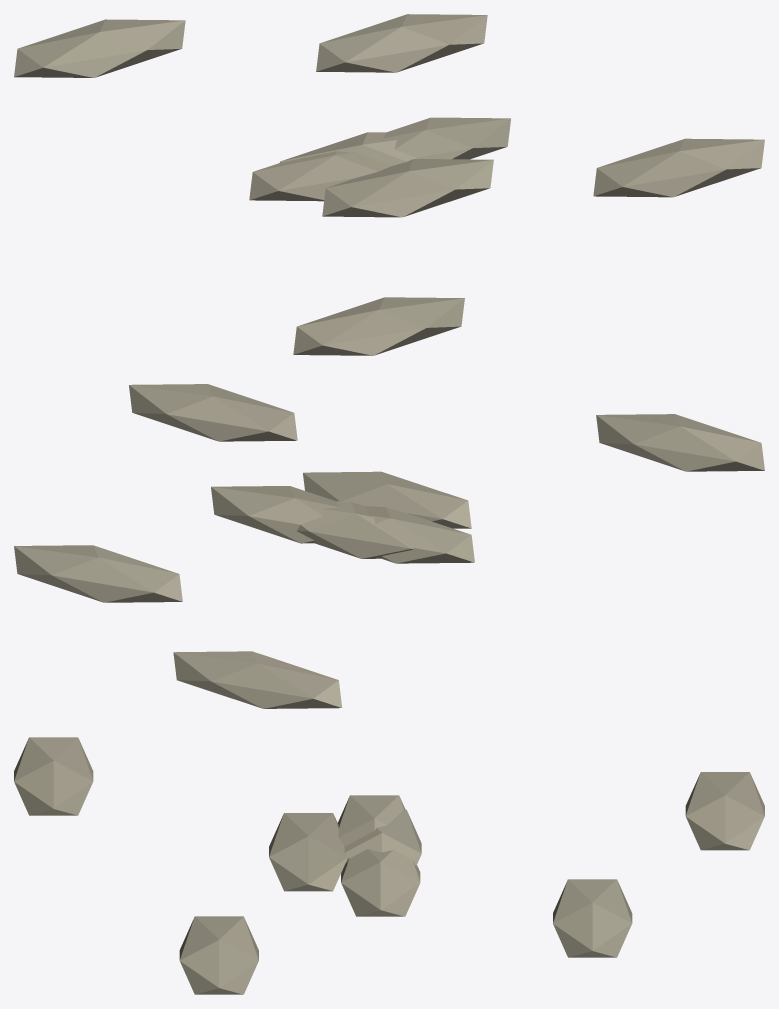
3 views of the same model, one above another, from view 1: azimuth 30°, elevation 25°; view 2: azimuth 150°, elevation 25°; view 3: azimuth 270°, elevation 25° (orthographic). The views are drawn at different scales.
Visible parts, largest first — view 1: tower-petals; view 2: tower-petals; view 3: tower-petals.
Boxes of the visible parts, x1,y1,x2,y2 form: tower-petals: [14, 14, 764, 355]; tower-petals: [14, 384, 764, 708]; tower-petals: [14, 737, 764, 994].
Size of the model in its own units: 0.5244 by 0.03 by 0.6439.
